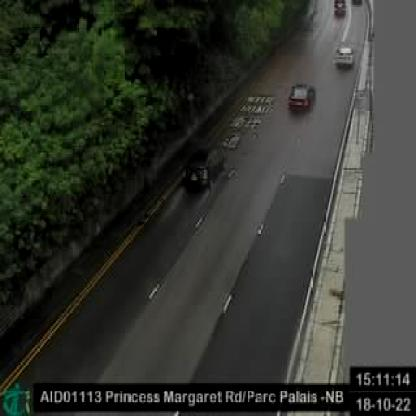Car: (183, 149, 226, 190), (287, 82, 318, 113), (333, 45, 357, 71), (333, 0, 350, 19)
